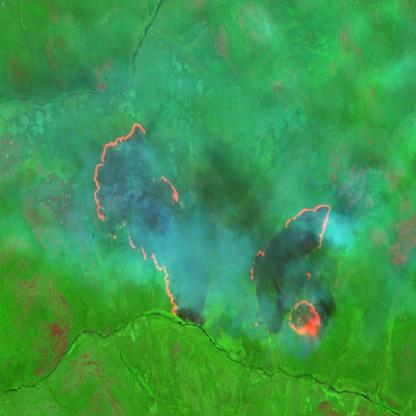fire: (91, 121, 182, 318), (249, 202, 332, 342)
